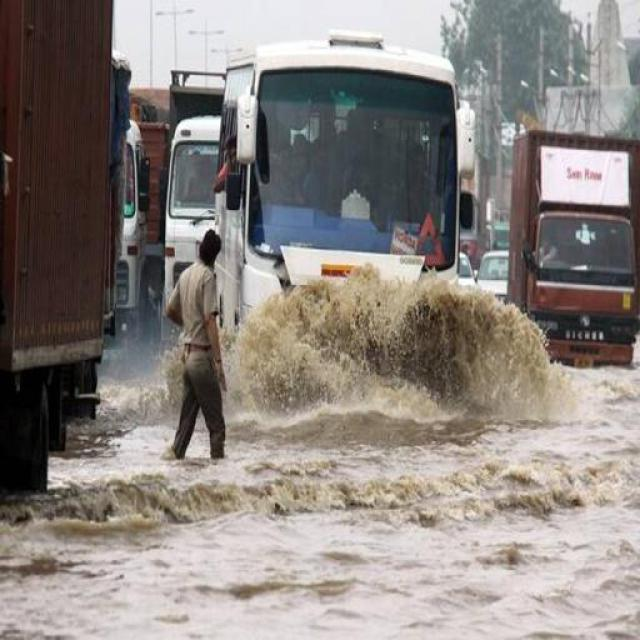puddle: (250, 423, 635, 640), (7, 509, 387, 640)
